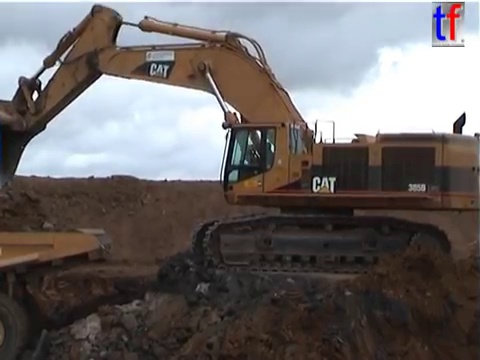excavator: (1, 1, 480, 278)
truck: (1, 223, 114, 360)
